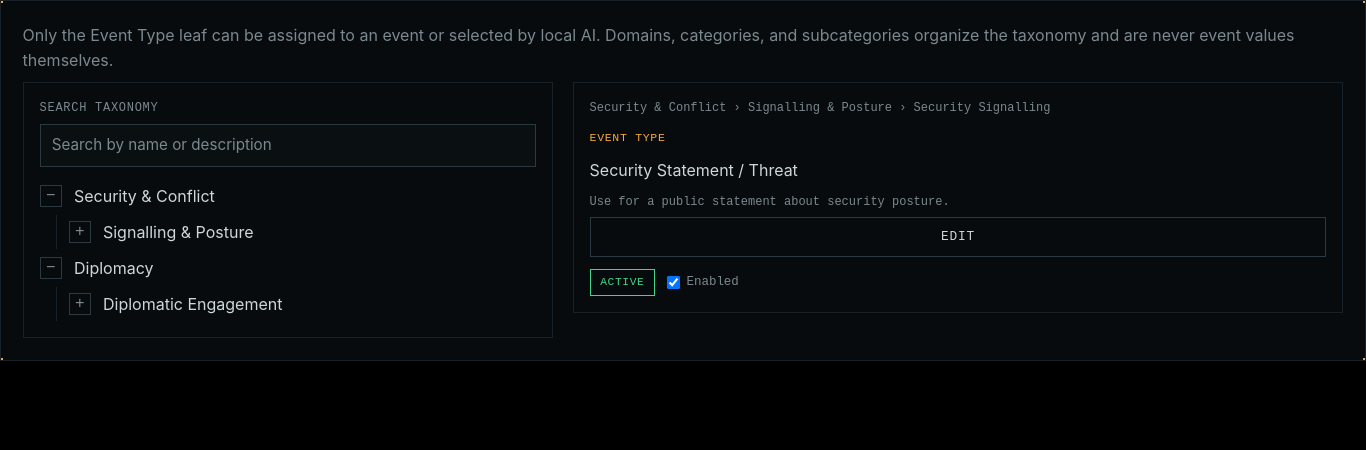
it: EventTypeSettings › blocks activation and explains when a leaf has no saved description
What coordinates should you click on to do the following:
click the button "Diplomatic Engagement"
I would click on:
 (193, 304)
Its box is [97, 287, 536, 321].
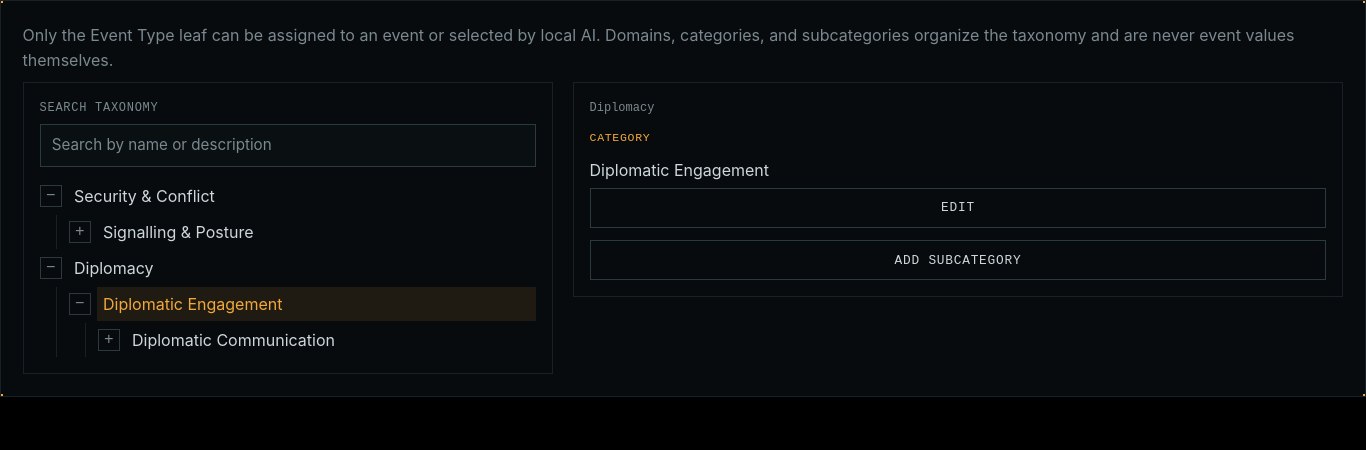
What coordinates should you click on to do the following:
click the button "Diplomatic Communication"
I would click on:
 (331, 340)
Its box is [126, 323, 536, 357].
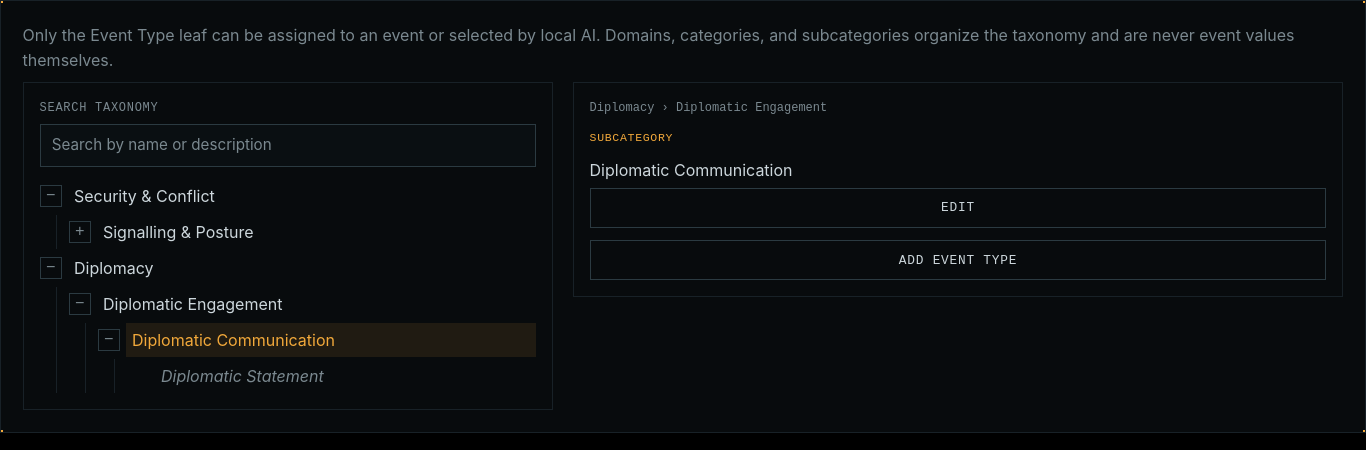
What coordinates should you click on to do the following:
click the button "Diplomatic Statement"
I would click on:
 (242, 376)
Its box is [155, 359, 536, 393].
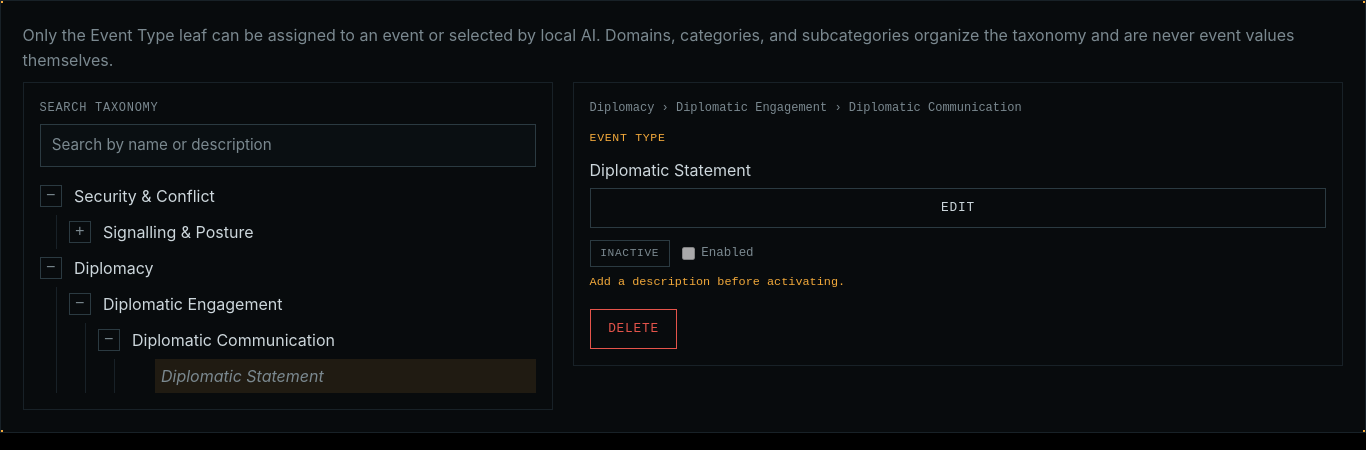
Check: the checkbox named "Active: Diplomatic Statement" is disabled, box [682, 247, 695, 260]
Check: the text "Add a description before activating." is shown, box [590, 275, 845, 289]
